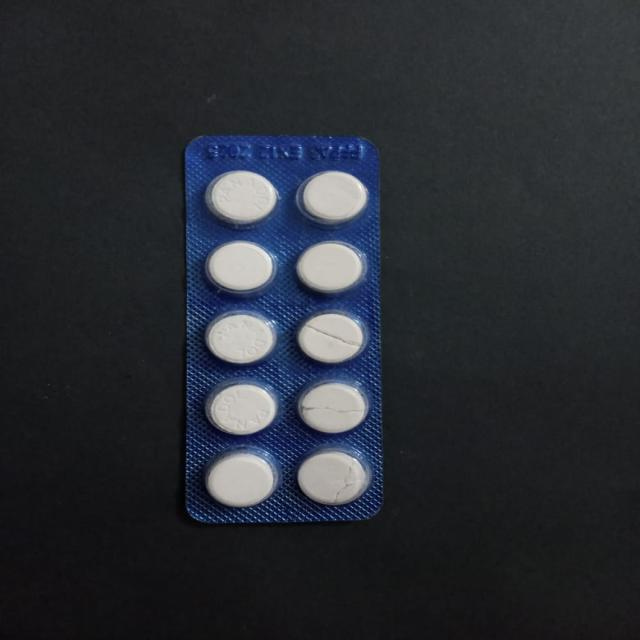defect: (291, 445, 376, 508), (292, 307, 372, 368), (293, 377, 372, 437)
